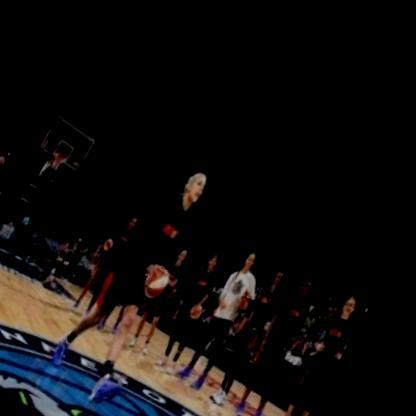basketball: (143, 254, 187, 301)
